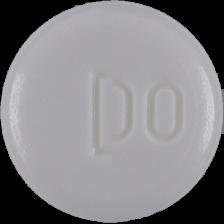0310-0095: (0, 0, 224, 224)
